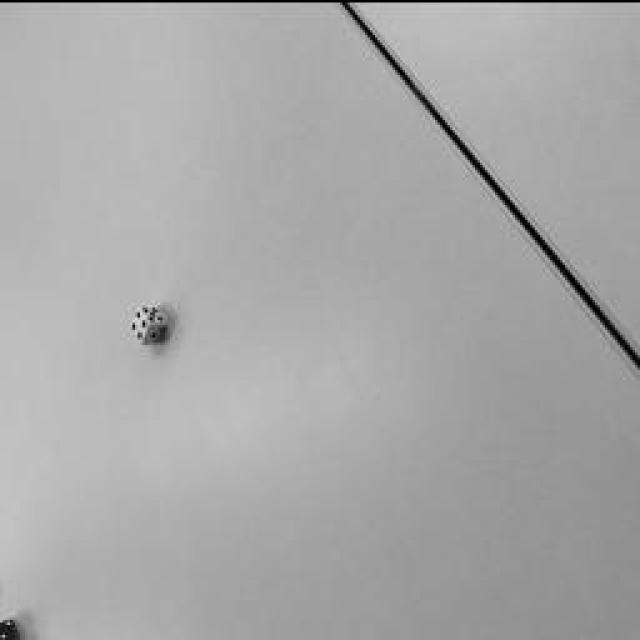dice_4: (131, 304, 149, 341)
